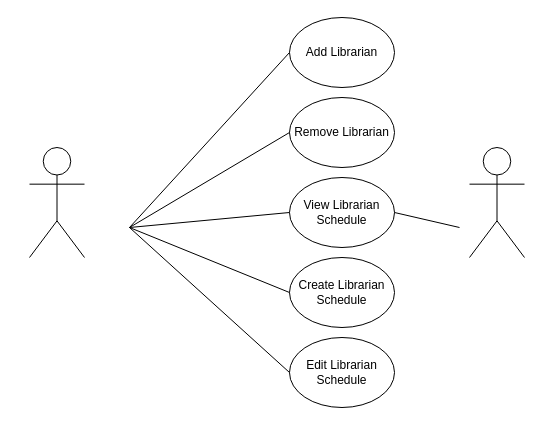
Image size: 542x425. Some labels were removed from this diagram. The shapes that lost their labels are listed below. From the top down, each one's centre as x and y in pixels, then its label:
At (x=56, y=202): "Head Librarian".
At (x=496, y=202): "Librarian".
